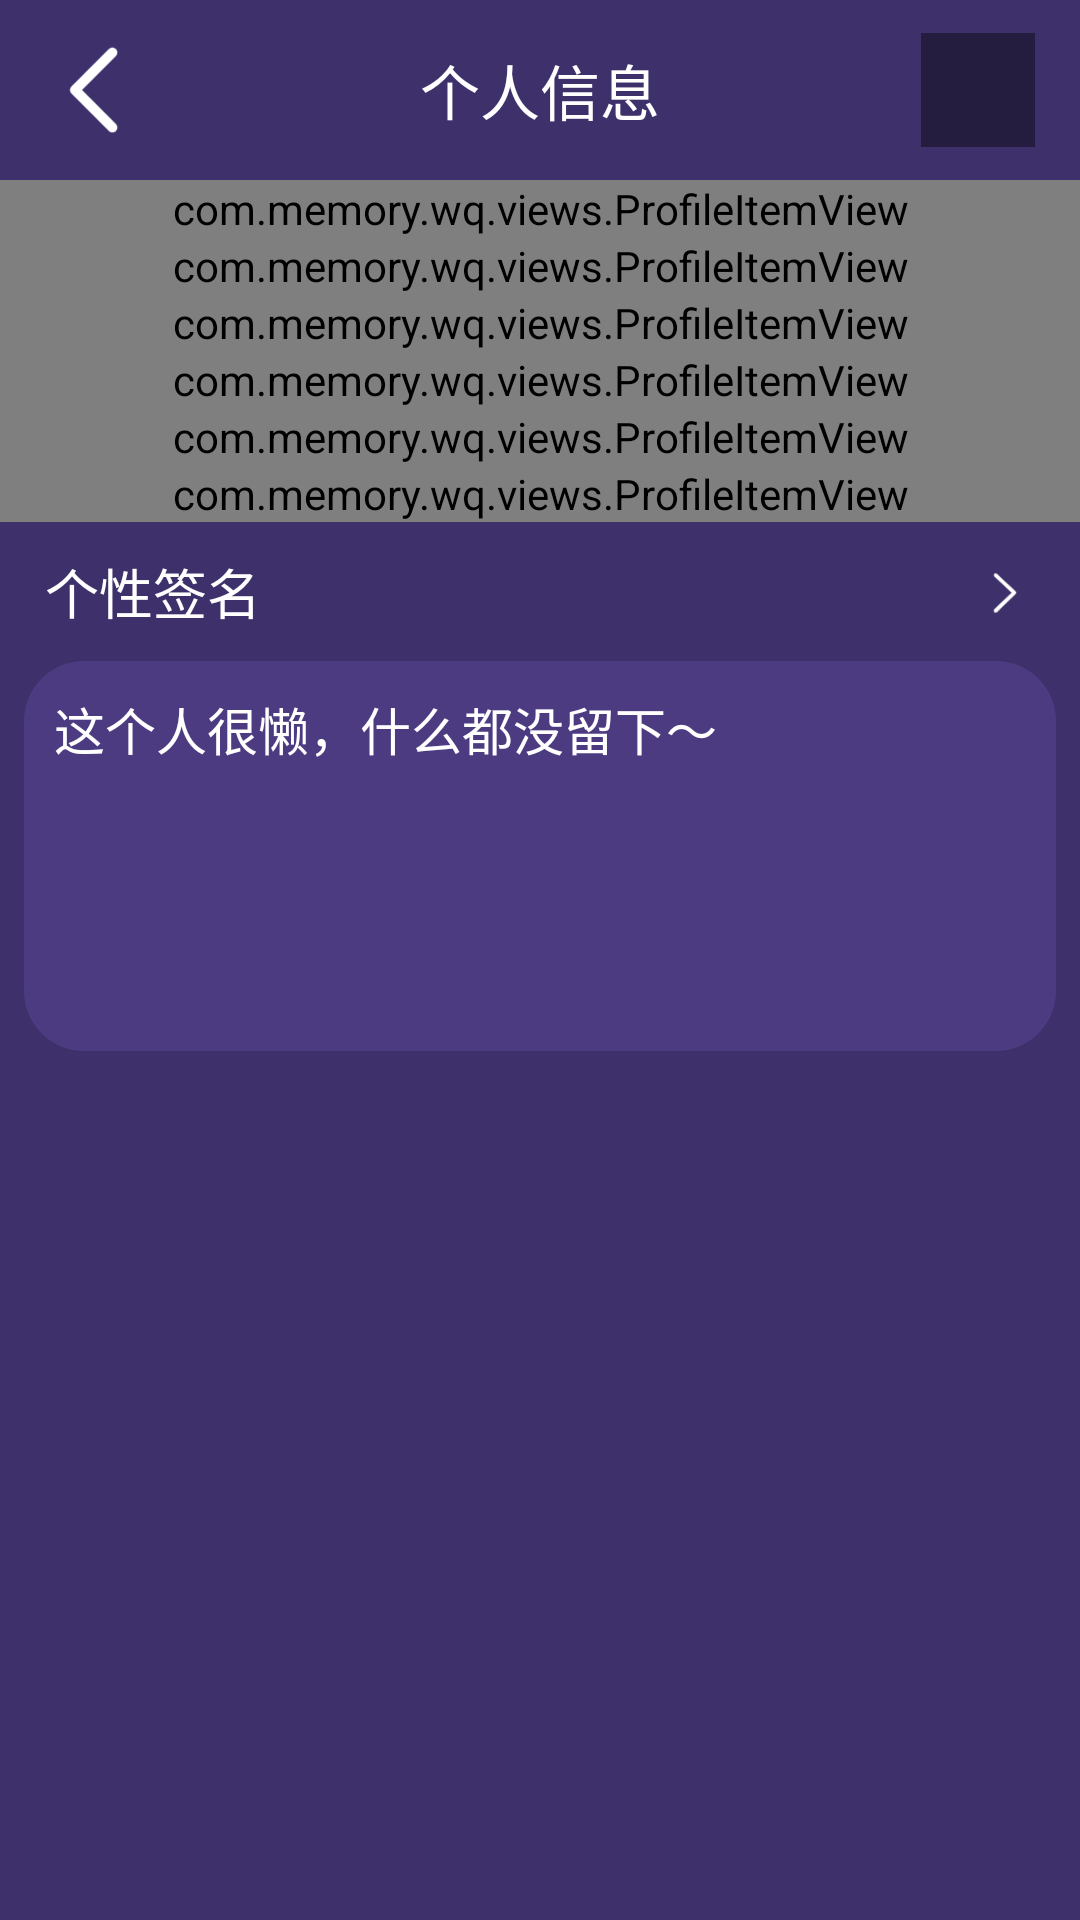

Icon bounding boxes for this 1080px×1920px phone screenshot, format (x1, y1, x2, y2):
back: (69, 47, 118, 133)
enter: (993, 573, 1017, 613)
